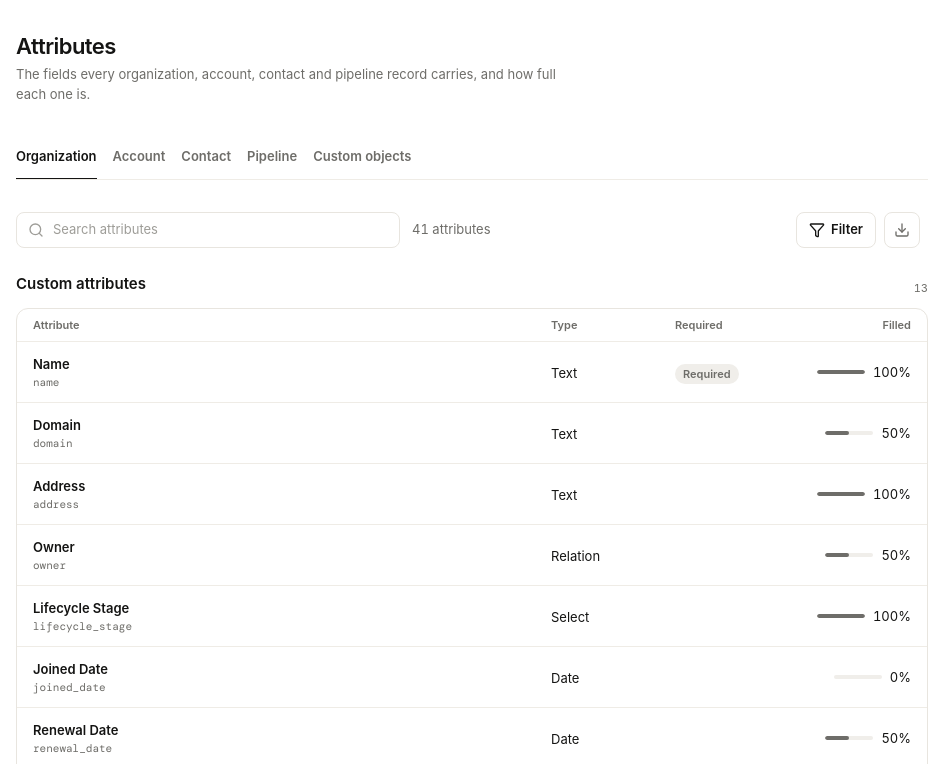
it: SettingsPage — Data tab, Account sub-tab › fetches every account and renders real Custom/System attribute sections
The image size is (945, 764).
Click the tab "Account" at (139, 158), box x1=112 y1=136 x2=165 y2=180
(page scrolled)
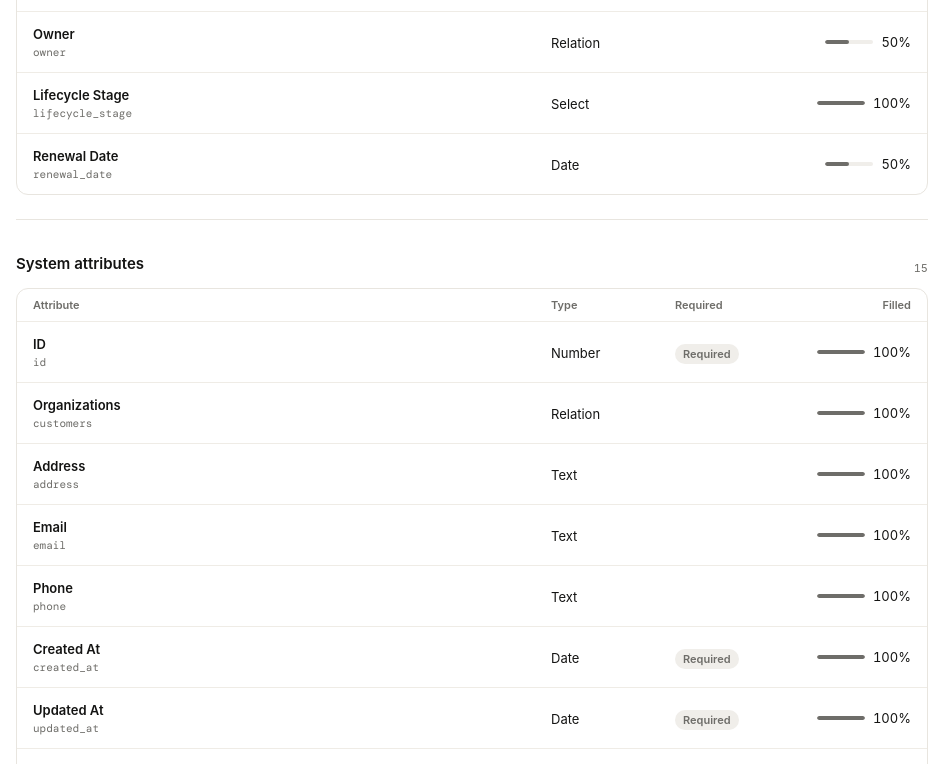
expect the text "lifecycle_stage" is shown: met, box x1=33 y1=106 x2=132 y2=120
expect the text "Organizations" is shown: met, box x1=33 y1=397 x2=121 y2=413
